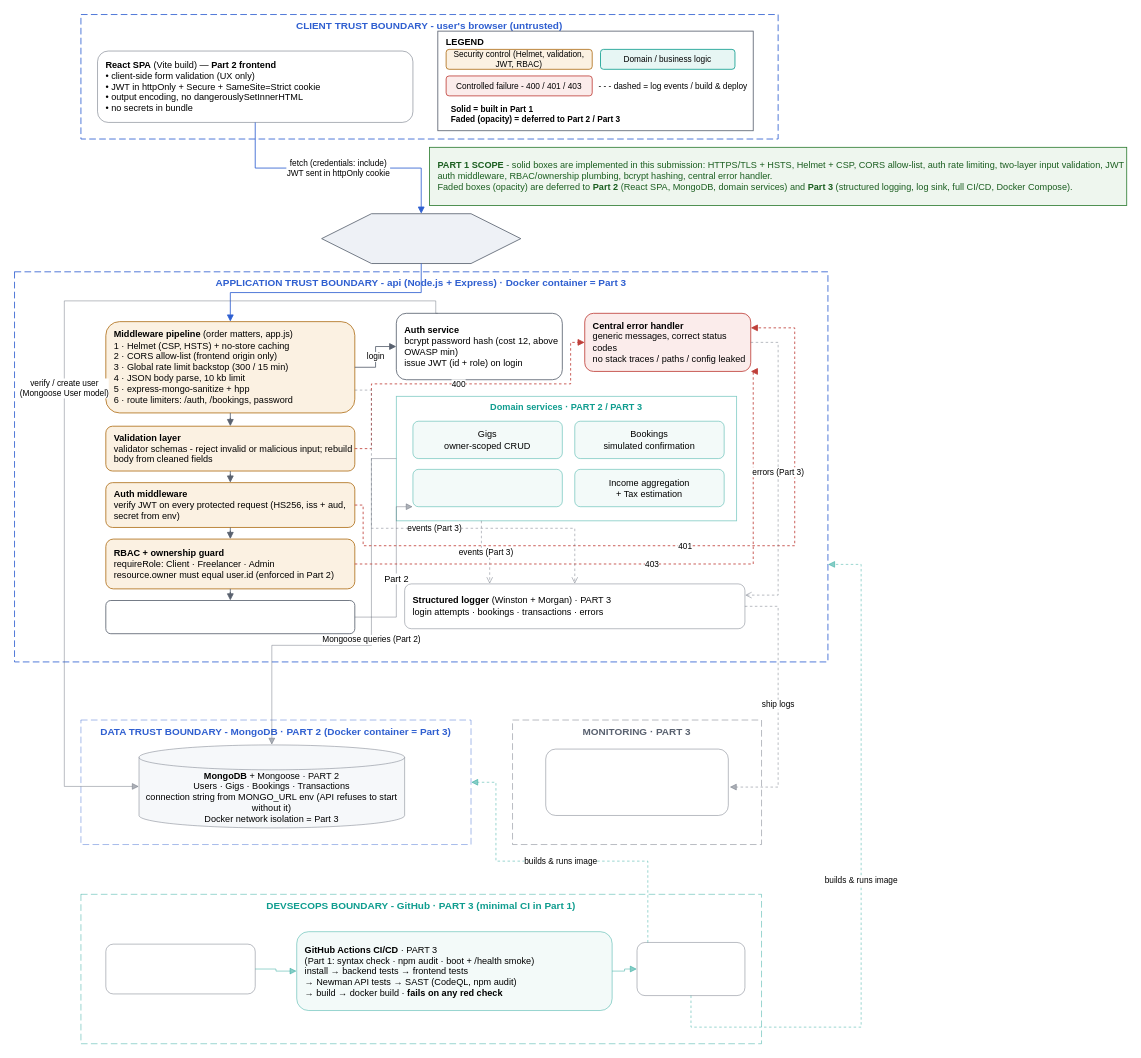
Some shapes in this 1141 by 1058 pixel diagram are drawn without their labels. Each missing label, with the centre of its shape:
Controllers → Services (thin routes): the point at 230,617
docker-compose · PART 3 api + client + mongo private network: the point at 690,969
GitHub repository branch protection: the point at 180,968
HTTPS / TLS 1.2+ local self-signed SSL cert · HSTS no plain-HTTP listener at all: the point at 421,238
Log sink · PART 3 cloud logging platform (dashboards + alerts): the point at 636,781
Transactions one record per booking: the point at 487,488
